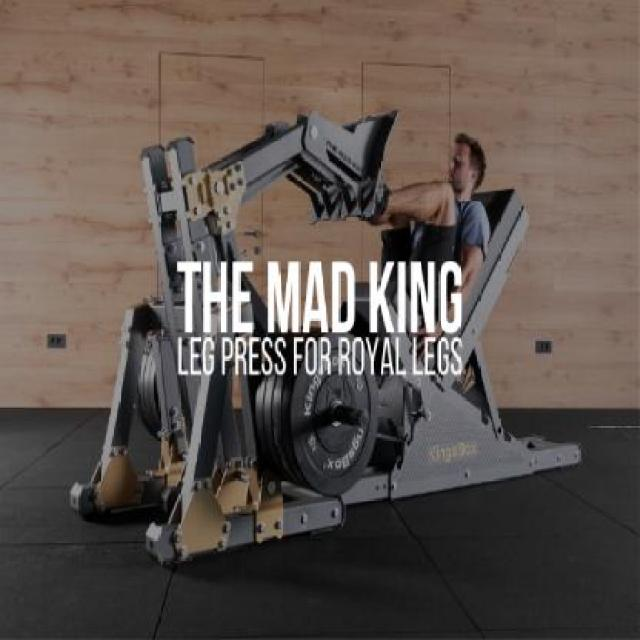leg press: (63, 59, 612, 598)
